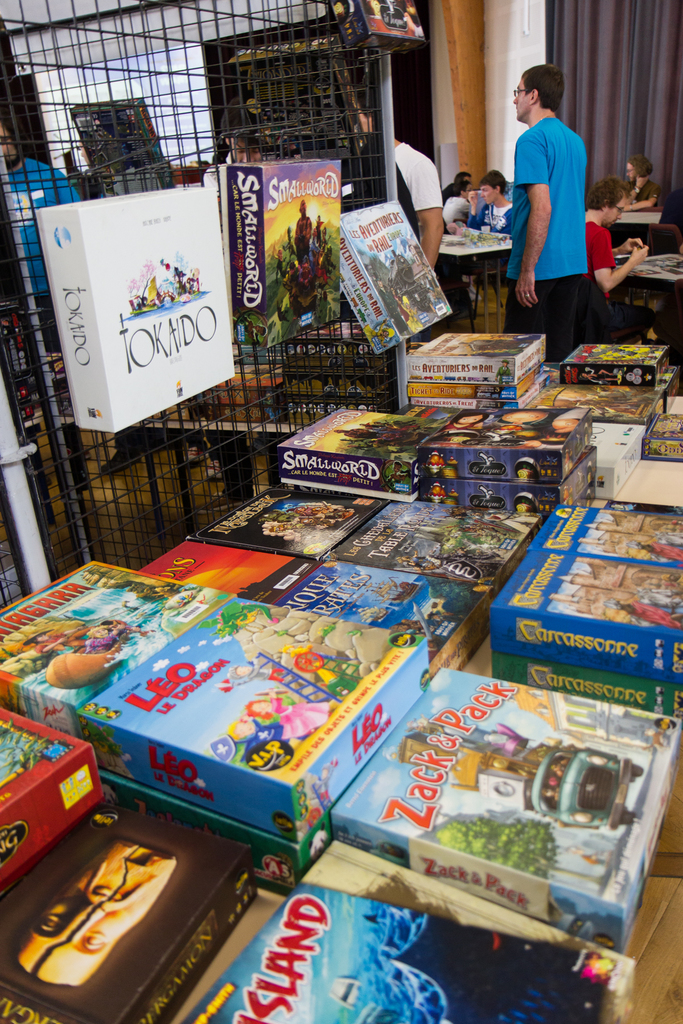Book: (38, 185, 236, 436)
